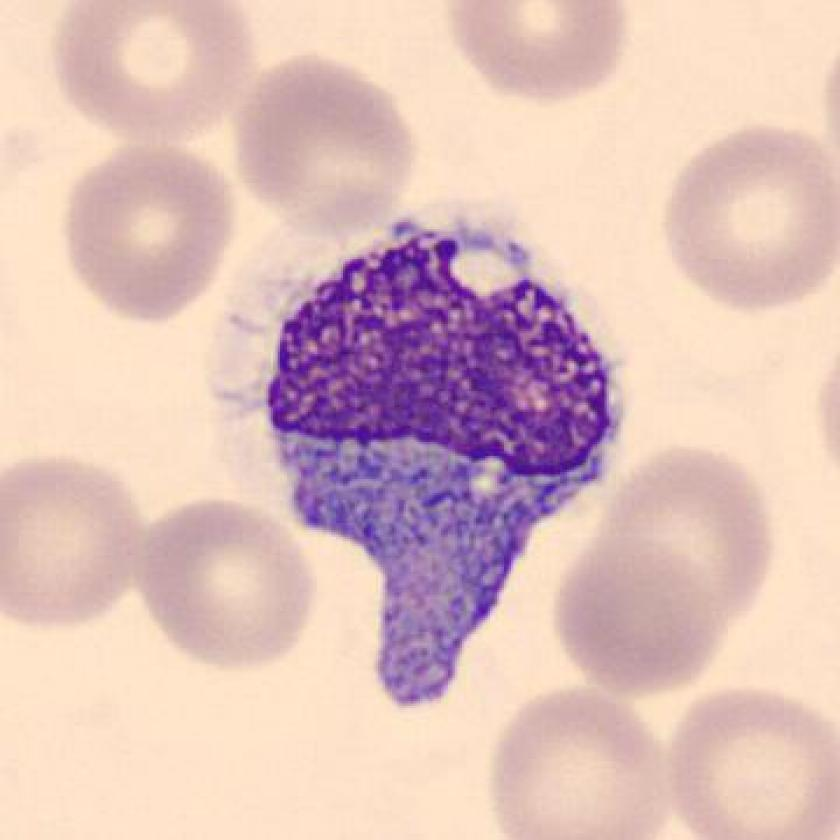monocyte: (246, 193, 640, 728)
